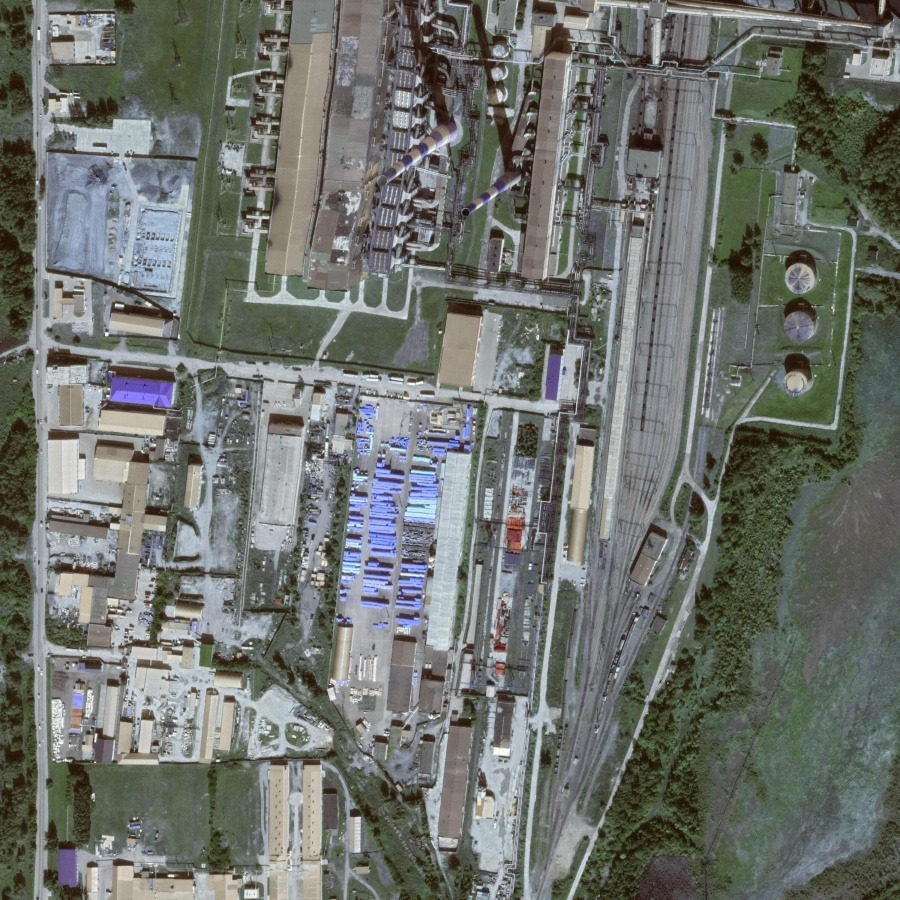PowerPlant: (706, 236, 854, 411)
